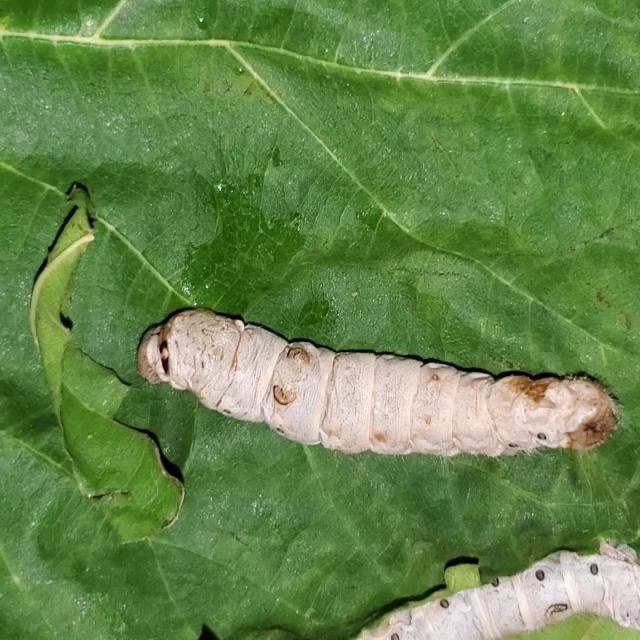Grasserie: (122, 260, 622, 502)
